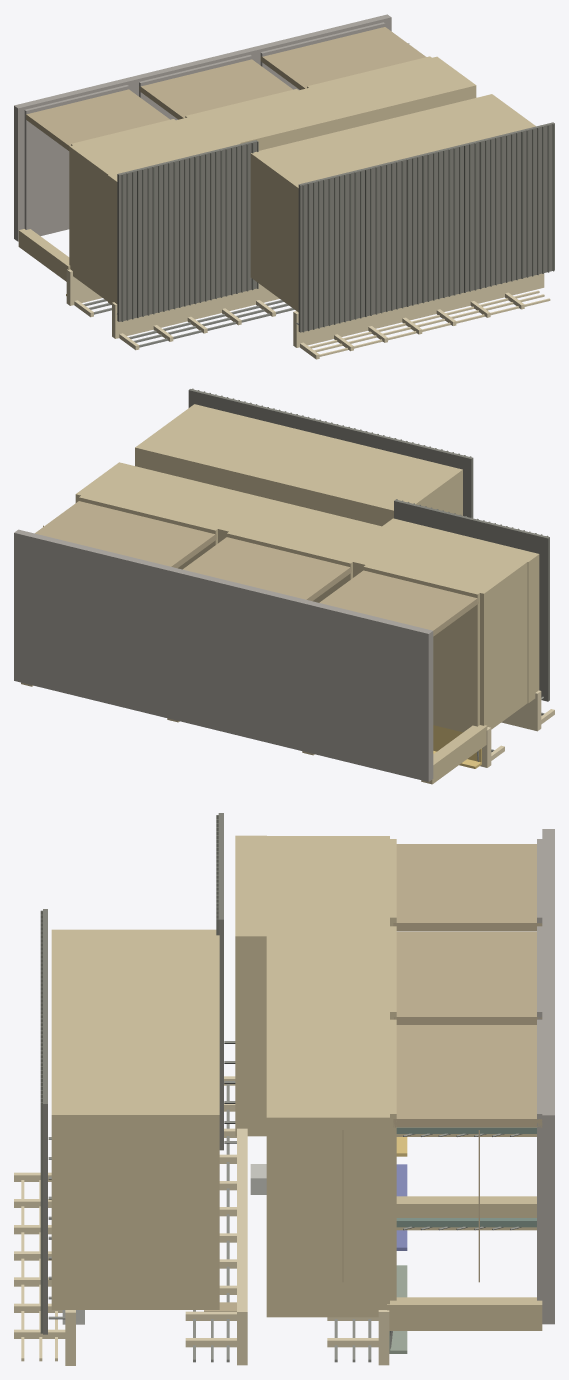
Rendered from hanoi_old_town_house.glb.
3 renders of one model, top to bottom at view 1: azimuth 30°, elevation 25°; view 2: azimuth 150°, elevation 25°; view 3: azimuth 270°, elevation 25°, orthographic. The views are drawn at different scales.
Visible parts, largest first — view 1: roof_sheet290, main_second62, third_main63, roof_sheet256, shop_rear39, shop_floor3, shop_rear20, ground_slab0, shop_rear1, balcony_slab67, balcony_slab66, left_second64 (+40 smaller); view 2: ground_slab0, main_second62, third_main63, shop_rear39, shop_ceiling2, shop_rear20, shop_rear1, roof_sheet290, roof_sheet256, left_second64, pillar58, shop_ceiling40 (+3 smaller); view 3: third_main63, main_second62, shop_rear39, shop_rear20, shop_rear1, left_second64, ground_slab0, pillar61, pillar60, balcony_slab66, roof_sheet290, shop_ceiling40 (+10 smaller).
Boxes of the visible parts, <box> form: roof_sheet290: <box>298,122,554,332</box>; main_second62: <box>69,56,476,301</box>; third_main63: <box>250,94,535,312</box>; roof_sheet256: <box>117,140,257,321</box>; shop_rear39: <box>260,27,425,89</box>; shop_floor3: <box>24,85,128,234</box>; shop_rear20: <box>139,59,292,119</box>; ground_slab0: <box>14,14,391,241</box>; shop_rear1: <box>25,89,169,150</box>; balcony_slab67: <box>293,273,544,347</box>; balcony_slab66: <box>112,283,279,338</box>; left_second64: <box>108,143,240,304</box>; ground_slab0: <box>14,529,433,781</box>; main_second62: <box>75,462,527,729</box>; third_main63: <box>135,404,462,526</box>; shop_rear39: <box>35,501,216,568</box>; shop_ceiling2: <box>363,565,479,732</box>; shop_rear20: <box>183,537,351,601</box>; shop_rear1: <box>319,570,478,636</box>; roof_sheet290: <box>188,389,473,517</box>; roof_sheet256: <box>394,499,549,701</box>; left_second64: <box>382,518,539,703</box>; pillar58: <box>421,725,487,784</box>; shop_ceiling40: <box>79,495,217,569</box>; third_main63: <box>51,929,219,1309</box>; main_second62: <box>266,836,389,1317</box>; shop_rear39: <box>393,1025,542,1127</box>; shop_rear20: <box>394,931,542,1024</box>; shop_rear1: <box>393,844,542,931</box>; left_second64: <box>235,835,266,1136</box>; ground_slab0: <box>542,829,554,1324</box>; pillar61: <box>387,1297,542,1330</box>; pillar60: <box>396,1196,536,1230</box>; balcony_slab66: <box>237,1128,247,1365</box>; roof_sheet290: <box>43,909,47,1334</box>; shop_ceiling40: <box>389,1019,396,1300</box>.
Size of the model in its own units: 13.12 by 5.6 by 10.31.
